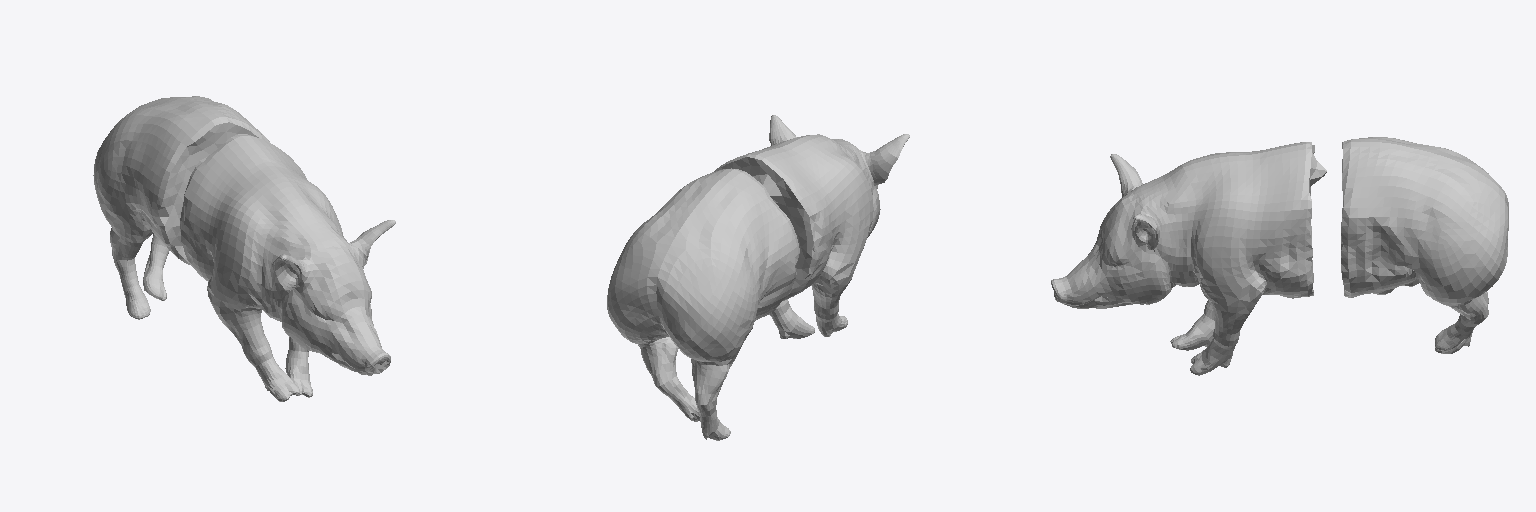
File: dead pig halved.obj
The picture shows the model from 3 angles: view 1: azimuth 30°, elevation 25°; view 2: azimuth 150°, elevation 25°; view 3: azimuth 270°, elevation 25°; orthographic projection.
Visible parts, largest first — view 1: pig sculpt 5, pig sculpt 5_1; view 2: pig sculpt 5_1, pig sculpt 5; view 3: pig sculpt 5, pig sculpt 5_1.
Boxes of the visible parts, x1,y1,x2,y2 form: pig sculpt 5: [180, 134, 395, 401]; pig sculpt 5_1: [93, 96, 269, 319]; pig sculpt 5_1: [607, 168, 799, 440]; pig sculpt 5: [714, 115, 909, 338]; pig sculpt 5: [1051, 142, 1326, 375]; pig sculpt 5_1: [1341, 137, 1508, 353].
Size of the model in its own units: 44.99 by 71.51 by 131.